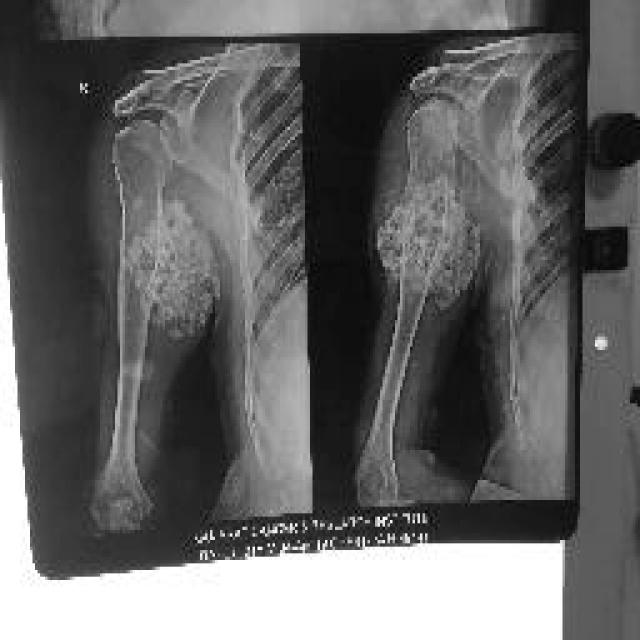bone-cancer: (376, 175, 479, 314), (127, 197, 220, 334)
